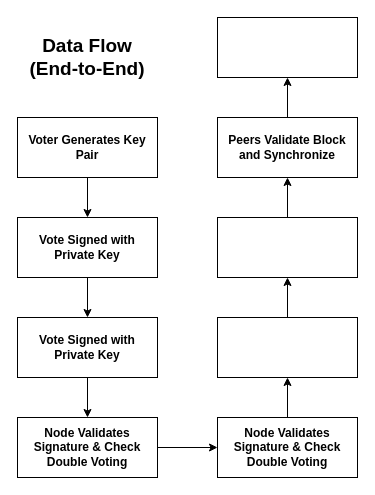
The diagram is 375 pixels wide and 495 high, and some of its shapes have lost their labels. The shapes that lost their labels are listed below. From the top down, each one's centre as x and y in pixels, then its label:
At point (287, 47): "Network reaches Consensus Via Longest-Chain Rule".
At point (287, 247): "Block Broadcasted to Peer Nodes".
At point (287, 347): "When Treshold Reached, Node Mines (PoW)".
